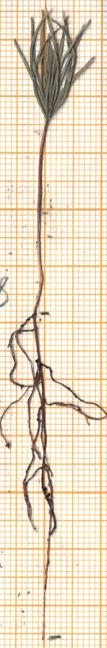flower: (11, 7, 100, 128)
root: (3, 317, 107, 637)
stem: (35, 129, 56, 315)
